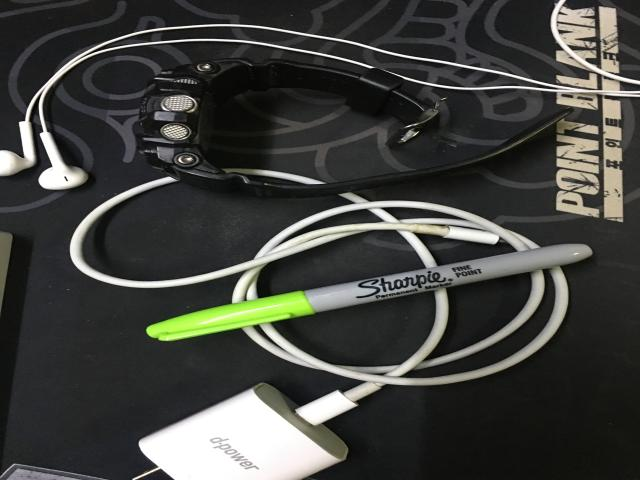Pen: (147, 244, 592, 341)
Watch: (137, 58, 572, 198)
wire: (74, 174, 588, 480), (0, 85, 88, 190)
